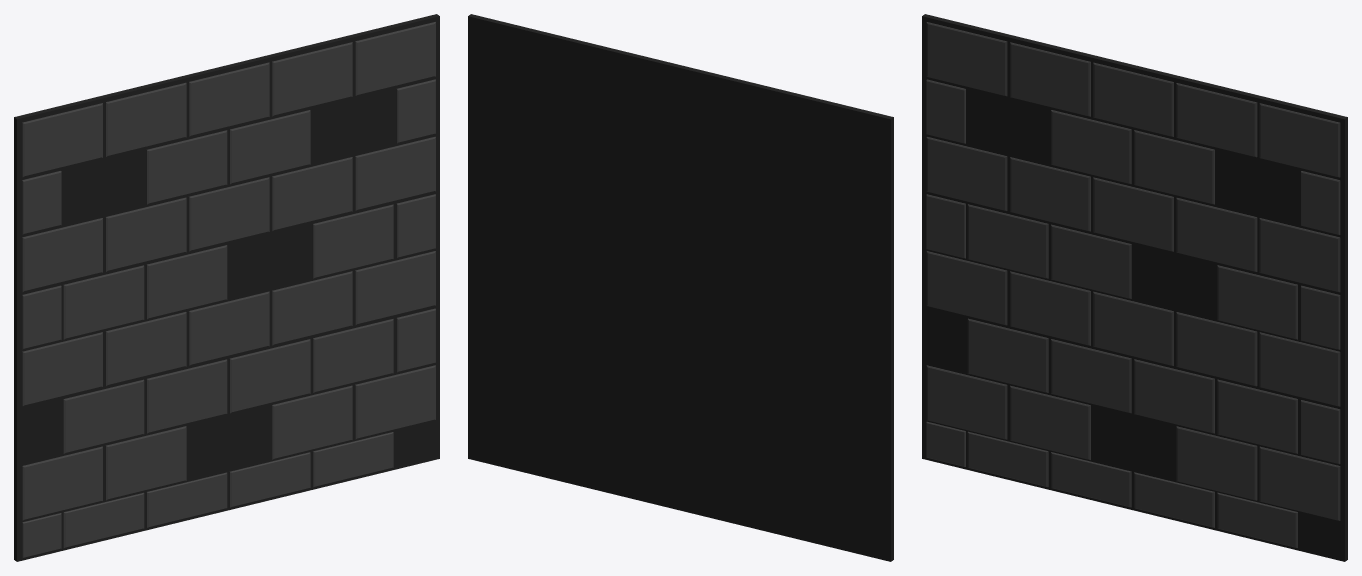
The model's file is Wall_6.fbx.
3 views of the same model, side by side, from view 1: azimuth 30°, elevation 25°; view 2: azimuth 150°, elevation 25°; view 3: azimuth 330°, elevation 25° (orthographic).
Parts seen in each view (by area): view 1: Plane.005; view 2: Plane.005; view 3: Plane.005.
Boxes of the visible parts, left/top/right/bottom form: Plane.005: left=14, top=14, right=439, bottom=561; Plane.005: left=468, top=14, right=893, bottom=561; Plane.005: left=922, top=14, right=1347, bottom=561.
Bounding box in the file's own units: 400 × 400 × 6.41.
1 material, 1 textured.
